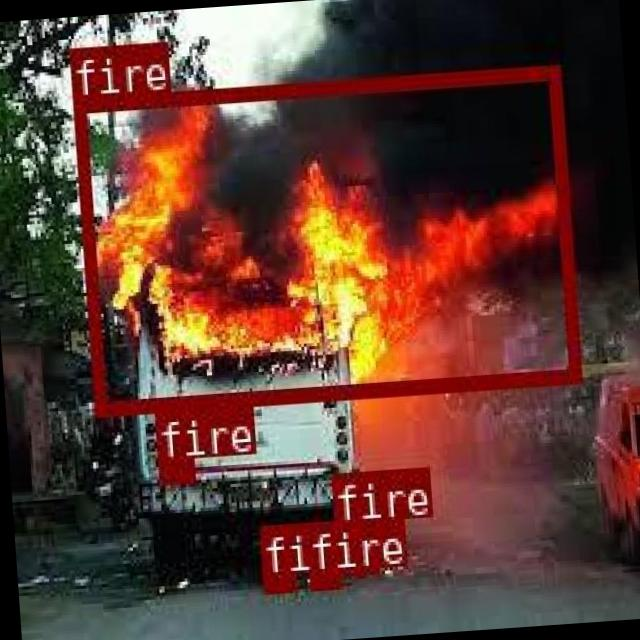fire: (72, 63, 578, 413), (334, 518, 376, 572), (156, 458, 192, 482), (262, 572, 294, 590), (306, 568, 336, 586)
